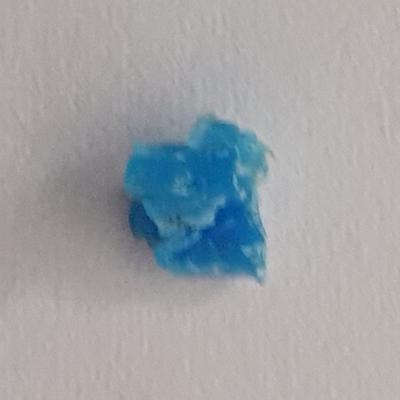plastic: (104, 92, 291, 318)
